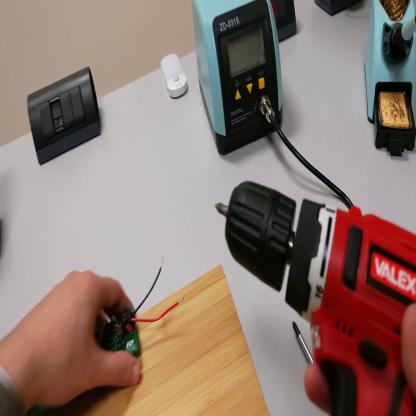electric screwdriver: (215, 186, 416, 416)
hand: (21, 270, 143, 404), (300, 299, 416, 416)
high voltage board: (32, 256, 188, 410)
screwdriver-: (292, 320, 317, 370)
socket: (271, 2, 299, 41), (315, 1, 368, 19)
welder base: (362, 1, 416, 163)
welder probe tip: (391, 11, 415, 60)
welder station: (192, 2, 286, 156)
working area: (39, 262, 271, 416)
